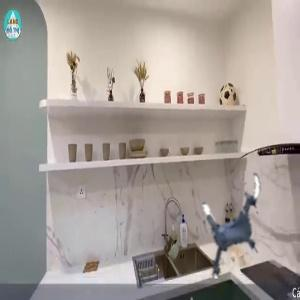drone: (183, 171, 285, 273)
